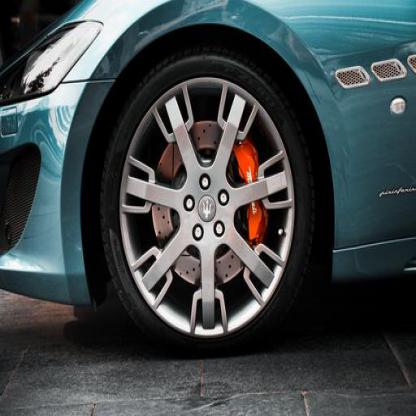Tire: (97, 49, 314, 360)
